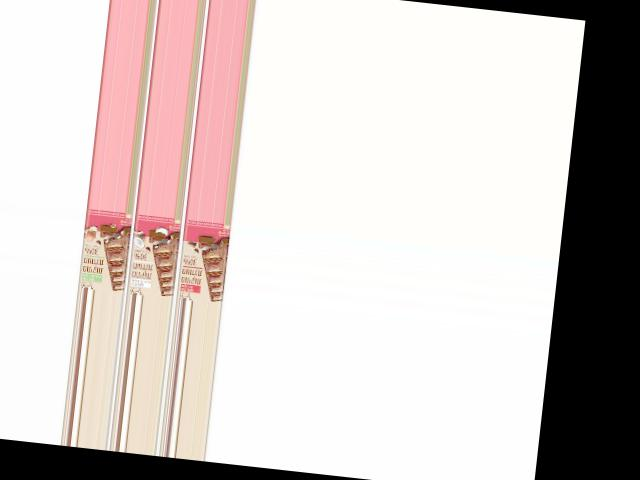chocolate: (76, 207, 131, 292)
